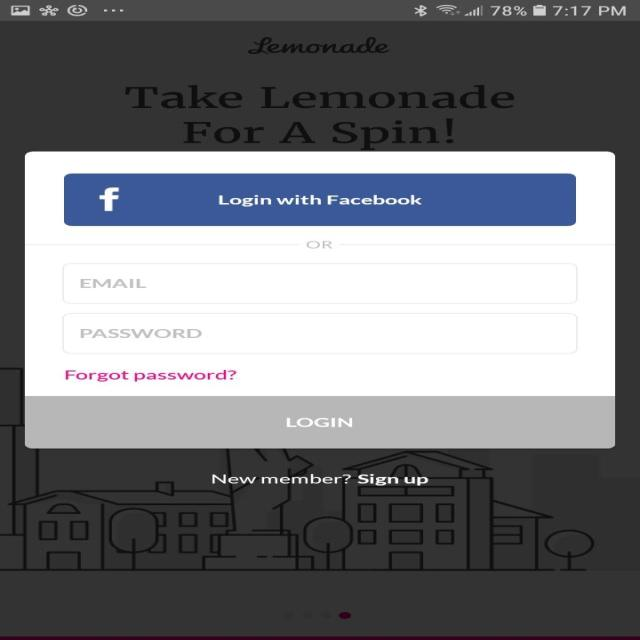EditText: (62, 312, 578, 354), (61, 262, 577, 304)
Icon: (99, 187, 120, 211)
Modal: (25, 152, 615, 448)
Text: (124, 84, 514, 150), (212, 473, 428, 485), (247, 37, 390, 55), (65, 369, 236, 382), (79, 328, 202, 338), (80, 278, 148, 288), (306, 240, 332, 248)
TextButton: (24, 396, 614, 448), (63, 173, 576, 226)
